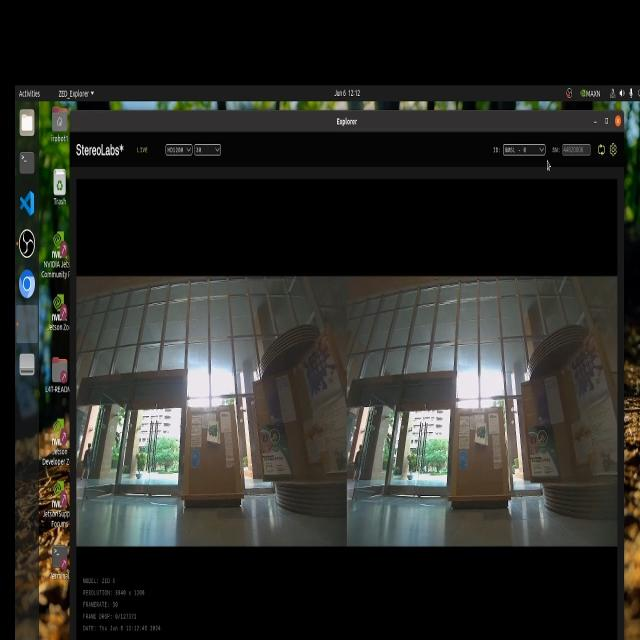green: (475, 428, 489, 460), (206, 422, 216, 439)
